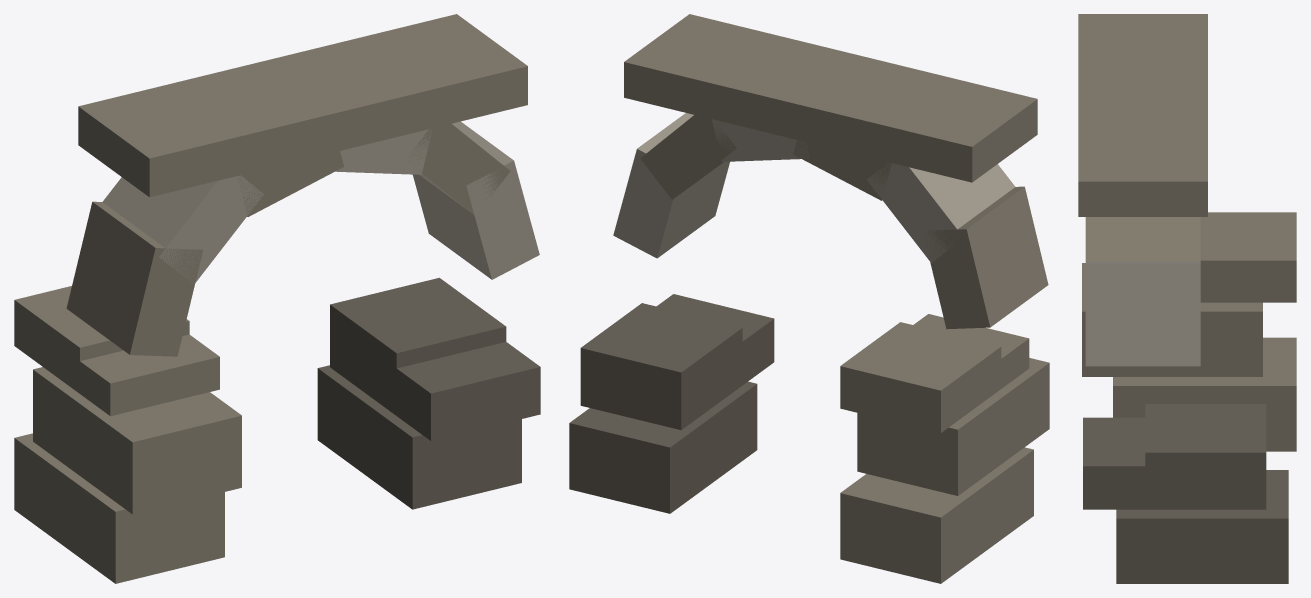
The model's file is land-forest-32.glb.
The picture shows the model from 3 angles, left to right: view 1: azimuth 30°, elevation 25°; view 2: azimuth 150°, elevation 25°; view 3: azimuth 270°, elevation 25°; orthographic projection. The views are drawn at different scales.
Parts seen in each view (by area): view 1: land.forest.32; view 2: land.forest.32; view 3: land.forest.32.
Part boxes in pixels (<box>): land.forest.32: <box>14,14,540,583</box>; land.forest.32: <box>569,14,1049,583</box>; land.forest.32: <box>1078,14,1296,583</box>.
Bounding box in the file's own units: 2.71 × 2.75 × 1.38.
